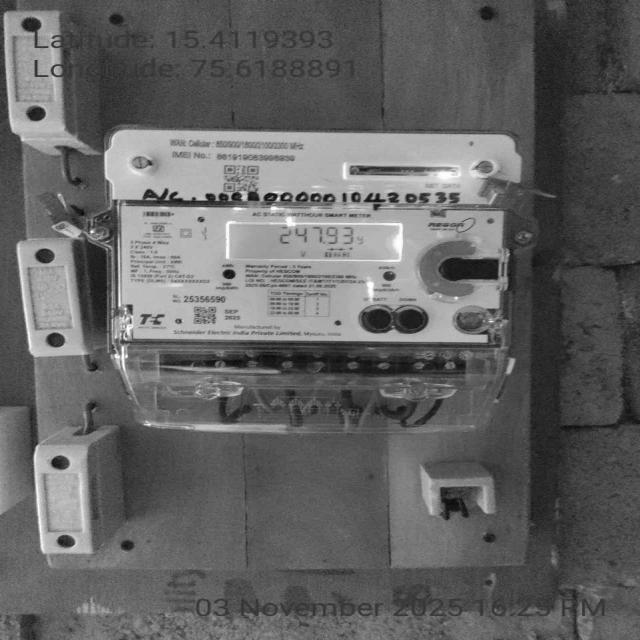meter: (109, 128, 509, 349)
